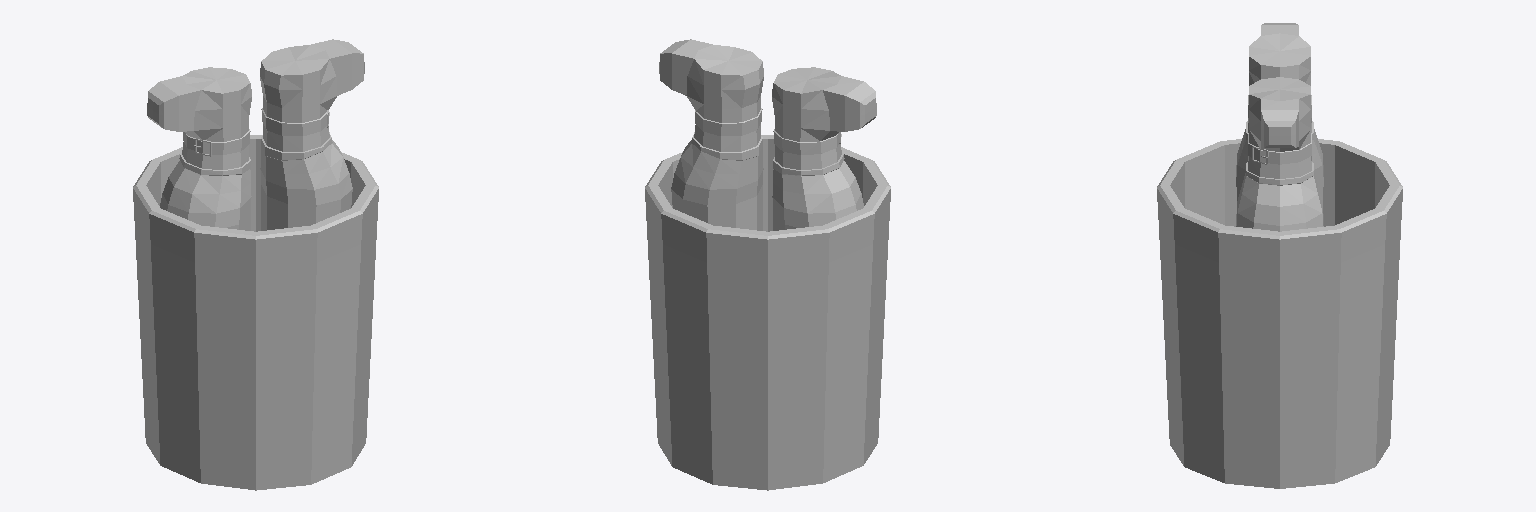
File: santadesacoplado.obj
3 views of the same model, side by side, from view 1: azimuth 30°, elevation 25°; view 2: azimuth 150°, elevation 25°; view 3: azimuth 270°, elevation 25° (orthographic).
Visible parts, largest first — view 1: Handle1.003, Handle1.001; view 2: Handle1.003, Handle1.001; view 3: Handle1.003, Handle1.001.
Boxes of the visible parts, <box> form: Handle1.003: <box>133,135,378,490</box>; Handle1.001: <box>147,39,364,230</box>; Handle1.003: <box>645,135,890,490</box>; Handle1.001: <box>659,39,876,230</box>; Handle1.003: <box>1157,139,1402,488</box>; Handle1.001: <box>1236,23,1323,231</box>.
Size of the model in its own units: 1.07 by 1.81 by 1.07.